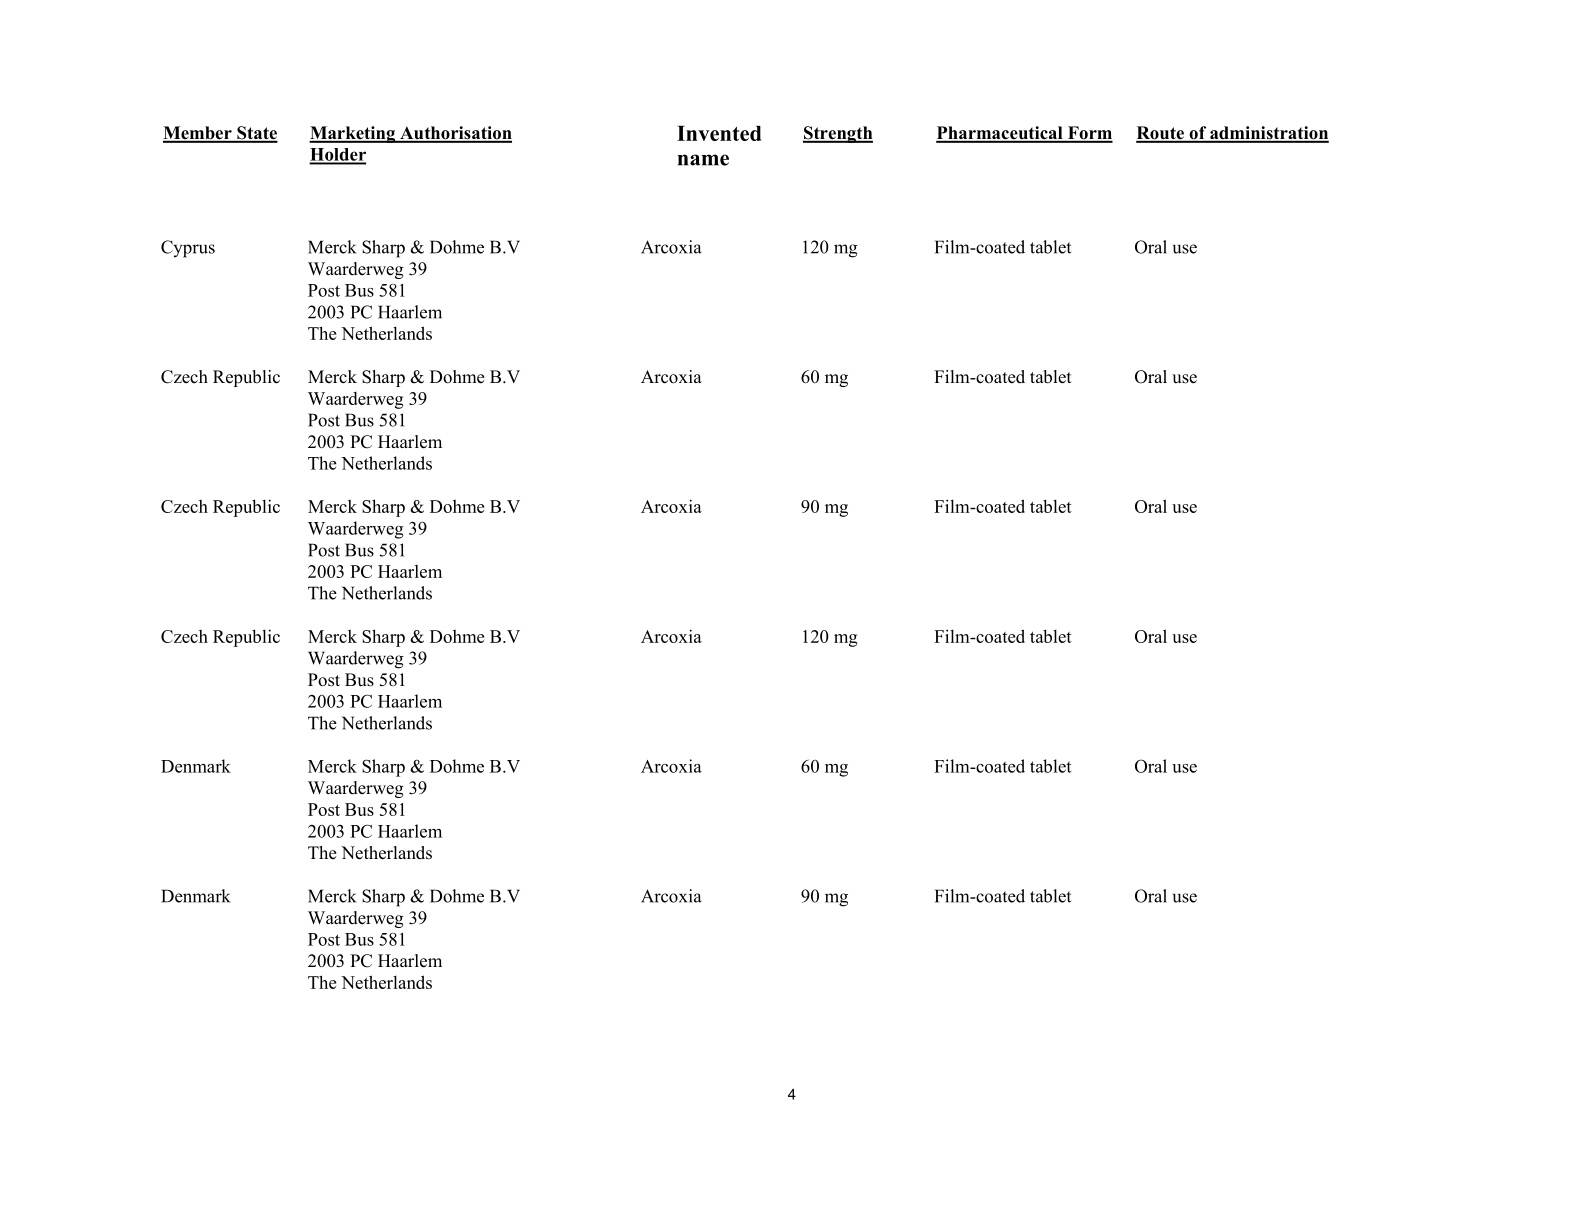nolines: (157, 112, 1333, 993)
